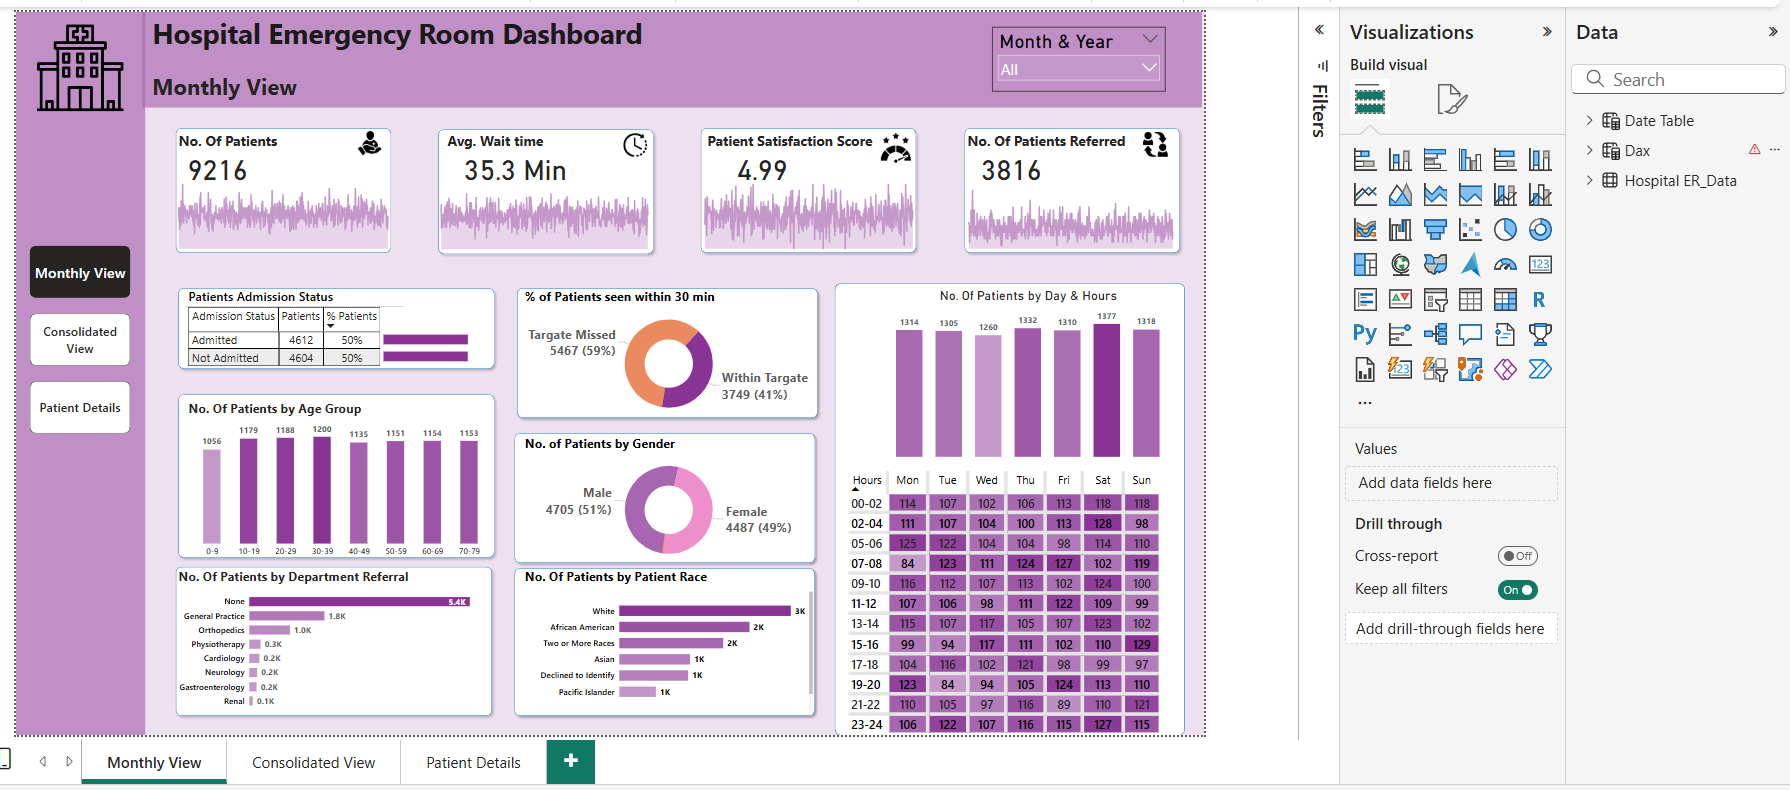

The page's visual inventory and layout, read from the dashboard file:
{"tool":"powerbi","page":{"name":"Monthly View","canvas":[2300,1400],"ordinal":0},"visuals":[{"type":"shape","box":[955,805,600,270],"z":0},{"type":"shape","box":[305,525,630,175],"z":1000},{"type":"shape","box":[0,0,250,1400],"z":2000},{"type":"shape","box":[244,0,2050,185],"z":3000},{"type":"textbox","box":[260,0,977.5,92.5],"z":4000},{"type":"shape","box":[299,215,435,260],"z":5000},{"type":"textbox","box":[258.8,108.8,360.4,75],"z":6000},{"type":"card","fields":{"Values":["Dax.No. Of Patients"]},"box":[300,235,180,130],"z":7000},{"type":"slicer","fields":{"Values":["Date Table.Month & Year"]},"box":[1890,30,335,125],"z":8000},{"type":"textbox","box":[310,225,260,60],"z":9000},{"type":"shape","box":[807.7,217.5,435,260],"z":10000},{"type":"areaChart","fields":{"Category":["Date Table.Date"],"Y":["Dax.No. Of Patients"]},"box":[300,320,435,145],"z":11000},{"type":"card","fields":{"Values":["Dax.Avg Wait time"]},"box":[850,235,235,130],"z":12000},{"type":"textbox","box":[830,225,260,60],"z":13000},{"type":"shape","box":[1316.3,215,435,260],"z":14000},{"type":"card","fields":{"Values":["Dax.Avg Satisfaction score"]},"box":[1355,235,180,130],"z":15000},{"type":"areaChart","fields":{"Category":["Date Table.Date"],"Y":["Dax.Avg Satisfaction score"]},"box":[1317.5,320,432.5,145],"z":16000},{"type":"shape","box":[1825,215,435,260],"z":17000},{"type":"card","fields":{"Values":["Dax.No. of patients referred"]},"box":[1825,235,200,130],"z":18000},{"type":"textbox","box":[1835.9,224.9,338.6,60.5],"z":19000},{"type":"areaChart","fields":{"Category":["Date Table.Date"],"Y":["Dax.No. of patients referred"]},"box":[1827.5,320,425,145],"z":20000},{"type":"areaChart","fields":{"Category":["Date Table.Date"],"Y":["Avg(Hospital ER_Data.Patient Waittime)"]},"box":[807.5,320,430,145],"z":21000},{"type":"shape","box":[960,525,600,270],"z":22000},{"type":"textbox","box":[1332.5,225,365,60],"z":23000},{"type":"pivotTable","title":"  Patients Admission Status","fields":{"Values":["Dax.No. Of Patients","Divide(Dax.No. Of Patients, ScopedEval(Dax.No. Of Patients, []))"],"Rows":["Hospital ER_Data.Admission Status"]},"box":[330,535,420,160],"z":24000},{"type":"shape","box":[305,730,630,335],"z":25000},{"type":"barChart","fields":{"Category":["Hospital ER_Data.Admission Status"],"Y":["Dax.No. Of Patients"]},"box":[707.5,595,222.5,105],"z":26000},{"type":"clusteredColumnChart","fields":{"Category":["Hospital ER_Data.Age Group"],"Y":["Dax.No. Of Patients"]},"box":[330,750,600,315],"z":27000},{"type":"shape","box":[300,1065,630,307.5],"z":28000},{"type":"clusteredBarChart","fields":{"Category":["Hospital ER_Data.Department Referral"],"Y":["Dax.No. Of Patients"]},"box":[310,1077.5,602.5,282.5],"z":29000},{"type":"donutChart","title":"% of Patients seen within 30 min","fields":{"Category":["Hospital ER_Data.Waittime Status"],"Y":["Dax.No. Of Patients"]},"box":[980,535,567.5,260],"z":30000},{"type":"donutChart","title":"No. of Patients by Gender","fields":{"Y":["Dax.No. Of Patients"],"Category":["Hospital ER_Data.Patient Gender"]},"box":[980,817.5,567.5,260],"z":31000},{"type":"shape","box":[955,1067.5,600,305],"z":32000},{"type":"clusteredBarChart","fields":{"Y":["Dax.No. Of Patients"],"Category":["Hospital ER_Data.Patient Race"]},"box":[980,1077.5,567.5,282.5],"z":33000},{"type":"shape","box":[1585,525,677.5,875],"z":34000},{"type":"pivotTable","fields":{"Rows":["Hospital ER_Data.Waiting Interval"],"Columns":["Date Table.Day Name"],"Values":["Dax.No. Of Patients"]},"box":[1605,882.5,647.5,517.5],"z":35000},{"type":"columnChart","title":"No. Of Patients by Day & Hours","fields":{"Category":["Date Table.Day Name"],"Y":["Dax.No. Of Patients"]},"box":[1697.5,535,522.5,332.5],"z":36000},{"type":"image","box":[27.5,17.5,195,182.5],"z":37000},{"type":"image","box":[650,222.5,67.5,62.5],"z":38000},{"type":"image","box":[1170,230,55,55],"z":39000},{"type":"image","box":[2157.5,227.5,95,57.5],"z":40000},{"type":"image","box":[1667.5,225,72.5,75],"z":41000},{"type":"pageNavigator","box":[27,452.5,195,365],"z":42000}]}

Visuals, with their boxes on the page's 2300x1400 design canvas (x1, y1, x2, y2). These are canvas units, not pixel positions in the 1790x790 screenshot, which may show the page scaled, cropped or inside an application window:
shape: <region>955, 805, 1555, 1075</region>
shape: <region>305, 525, 935, 700</region>
shape: <region>0, 0, 250, 1400</region>
shape: <region>244, 0, 2294, 185</region>
textbox: <region>260, 0, 1238, 92</region>
shape: <region>299, 215, 734, 475</region>
textbox: <region>259, 109, 619, 184</region>
card - Dax.No. Of Patients: <region>300, 235, 480, 365</region>
slicer - Date Table.Month & Year: <region>1890, 30, 2225, 155</region>
textbox: <region>310, 225, 570, 285</region>
shape: <region>808, 218, 1243, 478</region>
areaChart - Date Table.Date x Dax.No. Of Patients: <region>300, 320, 735, 465</region>
card - Dax.Avg Wait time: <region>850, 235, 1085, 365</region>
textbox: <region>830, 225, 1090, 285</region>
shape: <region>1316, 215, 1751, 475</region>
card - Dax.Avg Satisfaction score: <region>1355, 235, 1535, 365</region>
areaChart - Date Table.Date x Dax.Avg Satisfaction score: <region>1318, 320, 1750, 465</region>
shape: <region>1825, 215, 2260, 475</region>
card - Dax.No. of patients referred: <region>1825, 235, 2025, 365</region>
textbox: <region>1836, 225, 2174, 285</region>
areaChart - Date Table.Date x Dax.No. of patients referred: <region>1828, 320, 2252, 465</region>
areaChart - Date Table.Date x Avg(Hospital ER_Data.Patient Waittime): <region>808, 320, 1238, 465</region>
shape: <region>960, 525, 1560, 795</region>
textbox: <region>1332, 225, 1698, 285</region>
"  Patients Admission Status" pivotTable: <region>330, 535, 750, 695</region>
shape: <region>305, 730, 935, 1065</region>
barChart - Hospital ER_Data.Admission Status x Dax.No. Of Patients: <region>708, 595, 930, 700</region>
clusteredColumnChart - Hospital ER_Data.Age Group x Dax.No. Of Patients: <region>330, 750, 930, 1065</region>
shape: <region>300, 1065, 930, 1372</region>
clusteredBarChart - Hospital ER_Data.Department Referral x Dax.No. Of Patients: <region>310, 1078, 912, 1360</region>
"% of Patients seen within 30 min" donutChart: <region>980, 535, 1548, 795</region>
"No. of Patients by Gender" donutChart: <region>980, 818, 1548, 1078</region>
shape: <region>955, 1068, 1555, 1372</region>
clusteredBarChart - Dax.No. Of Patients x Hospital ER_Data.Patient Race: <region>980, 1078, 1548, 1360</region>
shape: <region>1585, 525, 2262, 1400</region>
pivotTable - Hospital ER_Data.Waiting Interval x Date Table.Day Name: <region>1605, 882, 2252, 1400</region>
"No. Of Patients by Day & Hours" columnChart: <region>1698, 535, 2220, 868</region>
image: <region>28, 18, 222, 200</region>
image: <region>650, 222, 718, 285</region>
image: <region>1170, 230, 1225, 285</region>
image: <region>2158, 228, 2252, 285</region>
image: <region>1668, 225, 1740, 300</region>
pageNavigator: <region>27, 452, 222, 818</region>
